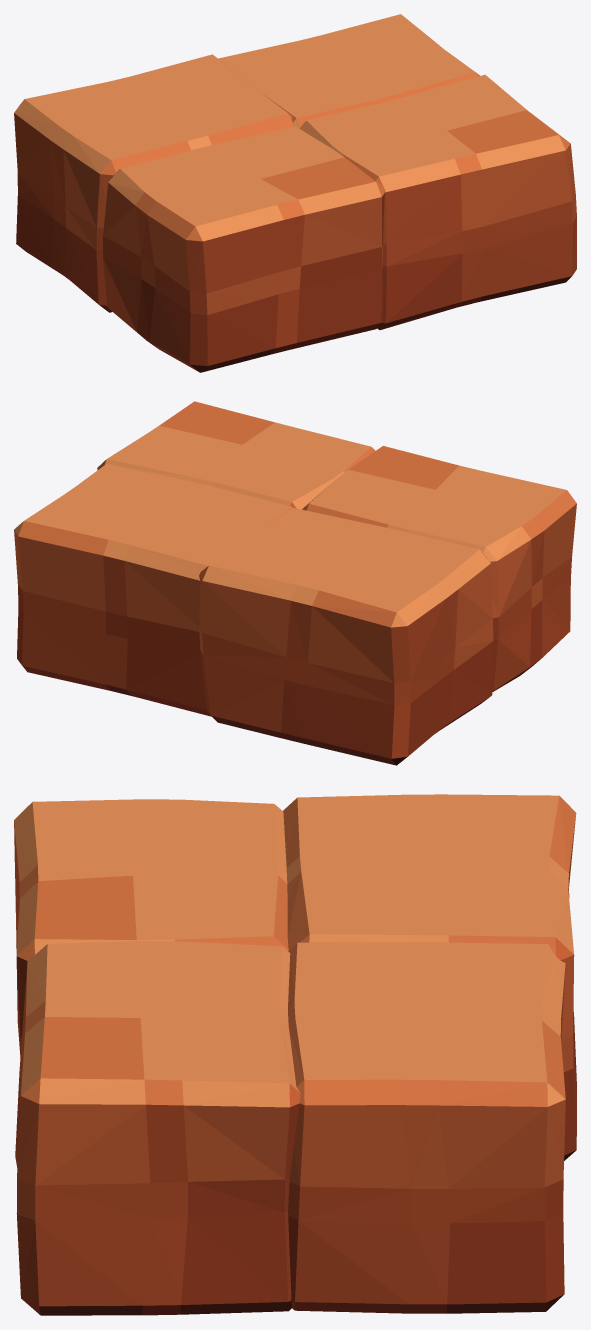
The model's file is SM_ROCK_BLOCK_02.fbx.
3 renders of one model, top to bottom at view 1: azimuth 30°, elevation 25°; view 2: azimuth 150°, elevation 25°; view 3: azimuth 270°, elevation 25°, orthographic. The views are drawn at different scales.
Parts seen in each view (by area): view 1: ROCK_BLOCK_02; view 2: ROCK_BLOCK_02; view 3: ROCK_BLOCK_02.
Boxes of the visible parts, <box> form: ROCK_BLOCK_02: <box>14,14,576,372</box>; ROCK_BLOCK_02: <box>14,401,576,765</box>; ROCK_BLOCK_02: <box>14,794,576,1315</box>.
Bounding box in the file's own units: 1.88 × 1.49 × 0.6902.
